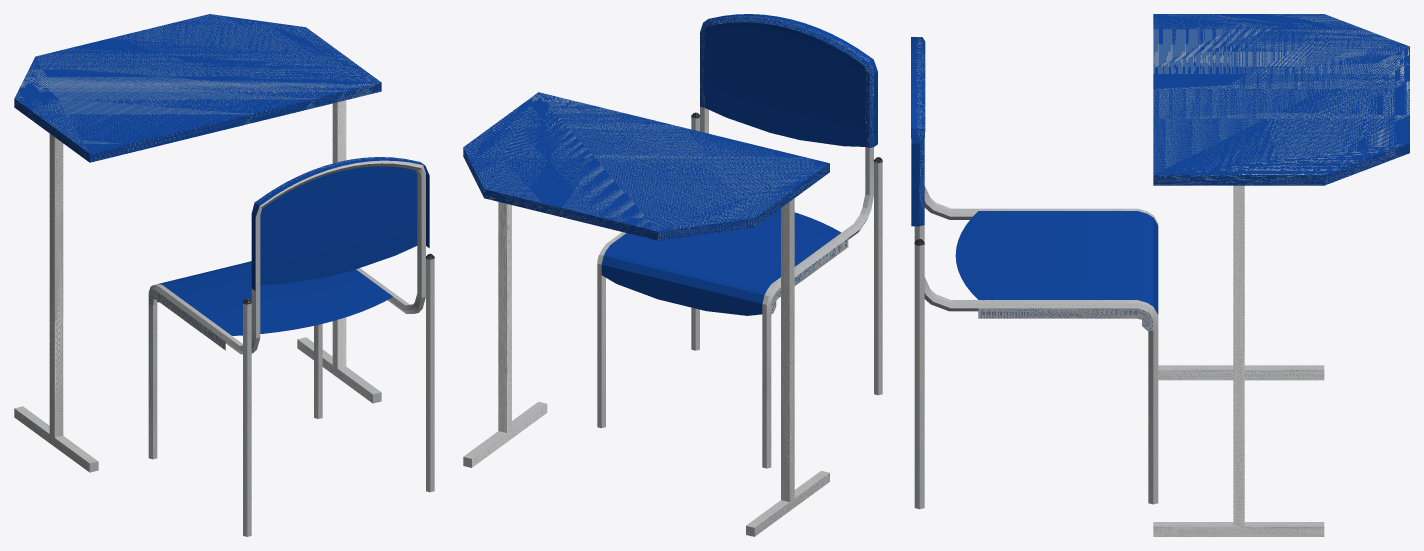
File: carteira+escolar.dae
3 views of the same model, side by side, from view 1: azimuth 30°, elevation 25°; view 2: azimuth 150°, elevation 25°; view 3: azimuth 270°, elevation 25° (orthographic). The views are drawn at different scales.
Parts seen in each view (by area): view 1: SketchUp (×9); view 2: SketchUp (×9); view 3: SketchUp (×9).
Part boxes in pixels (x1,y1,x2,y2): SketchUp (×9): (14,14,434,536); SketchUp (×9): (463,14,882,536); SketchUp (×9): (911,14,1409,536).
Bounding box in the file's own units: 26.38 × 34.45 × 30.18.
